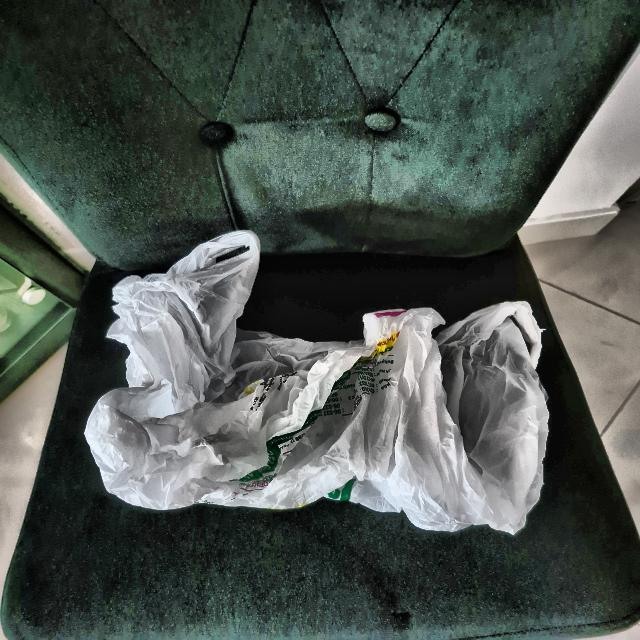plastic bag: (54, 224, 573, 548)
